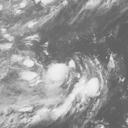cyclone: (46, 60, 101, 107)
